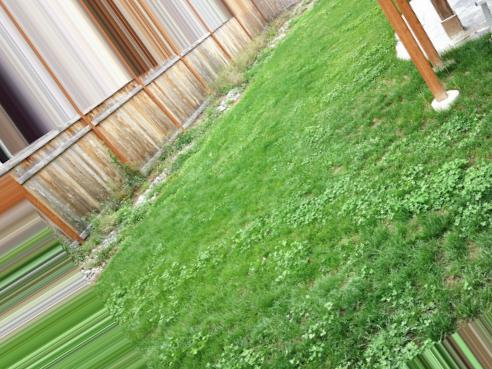patch: (121, 190, 164, 219), (208, 92, 240, 113)
